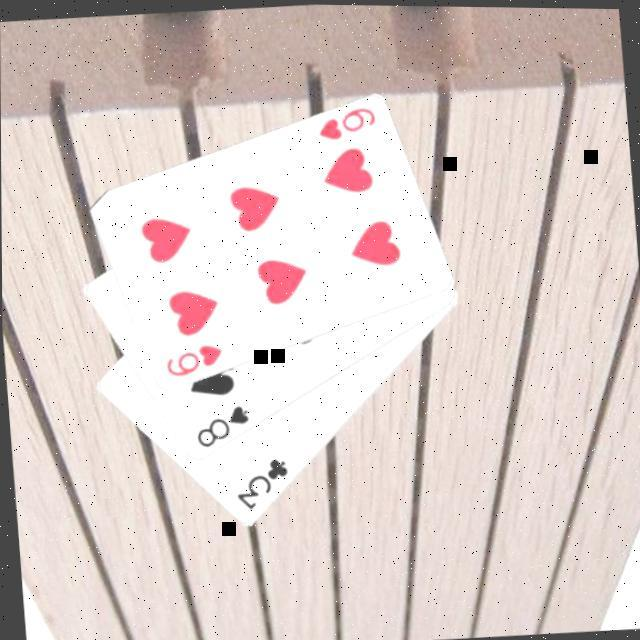3C: (231, 454, 295, 516)
6H: (162, 341, 228, 382), (315, 104, 381, 145)
8S: (191, 401, 254, 453)
